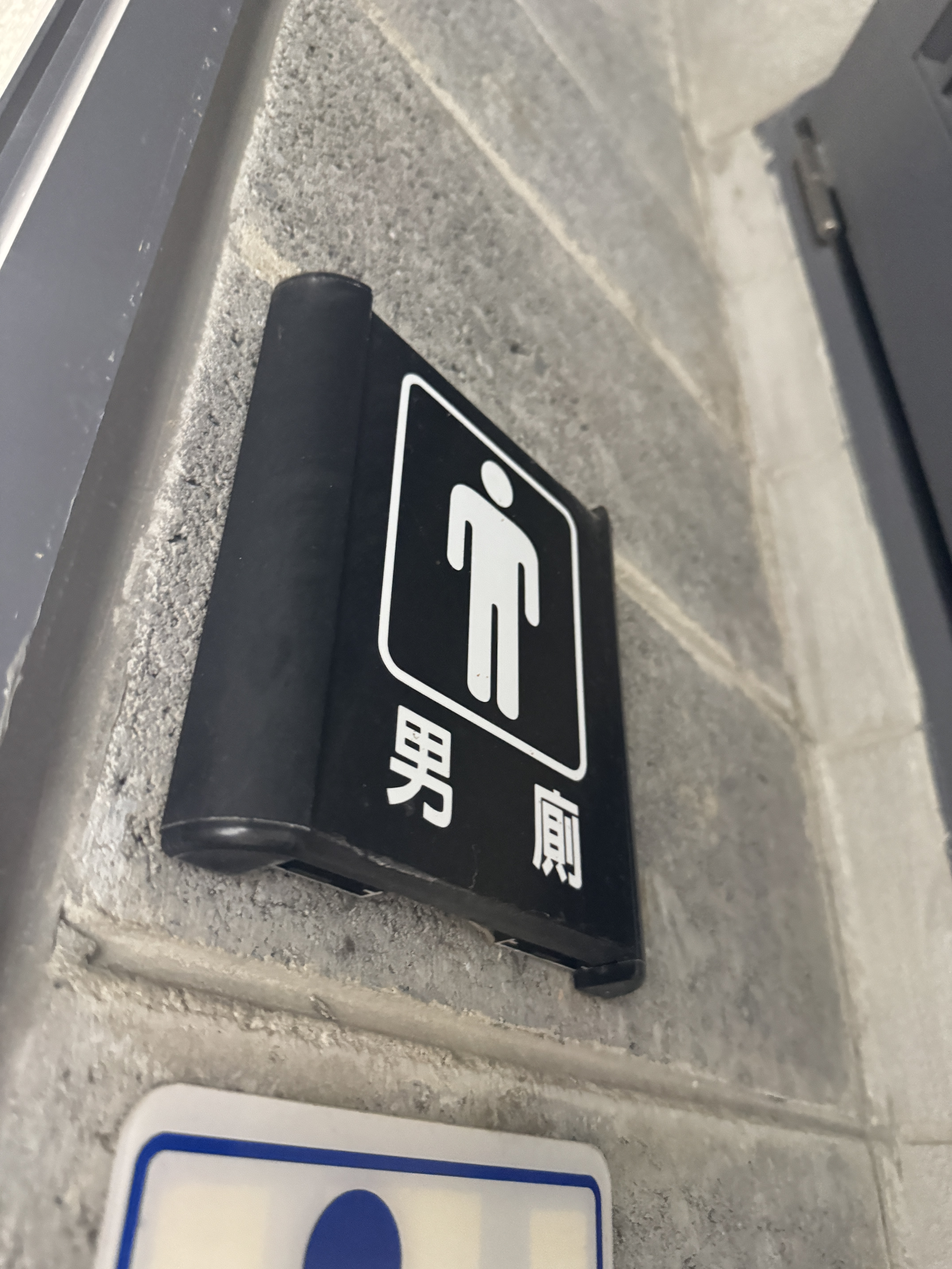toilet_sign: (189, 269, 678, 1029), (168, 263, 657, 1010)
